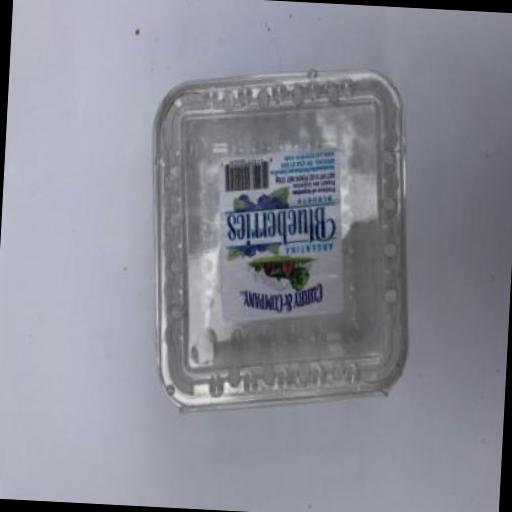plastic: (138, 58, 423, 423)
